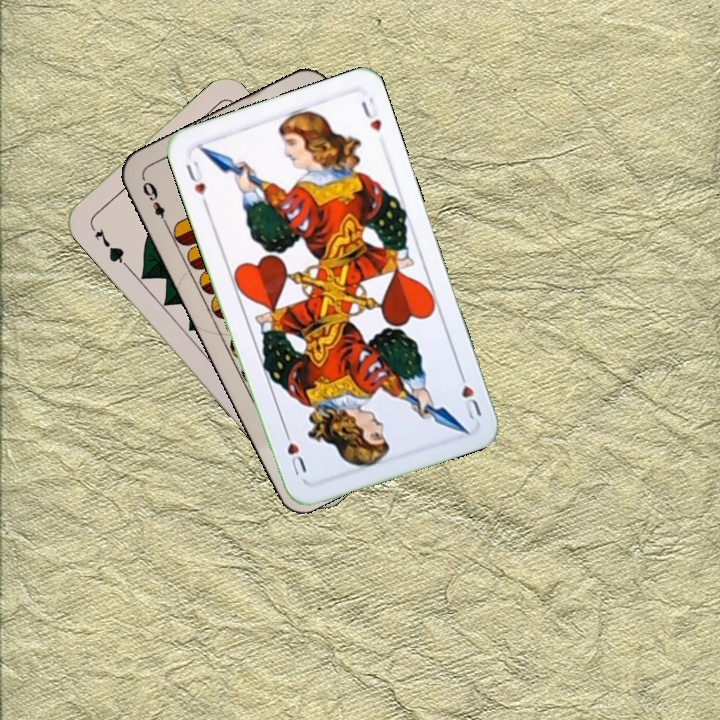E9: (137, 175, 172, 230)
G7: (86, 220, 130, 269)
HU: (454, 366, 484, 424), (182, 156, 210, 209)
